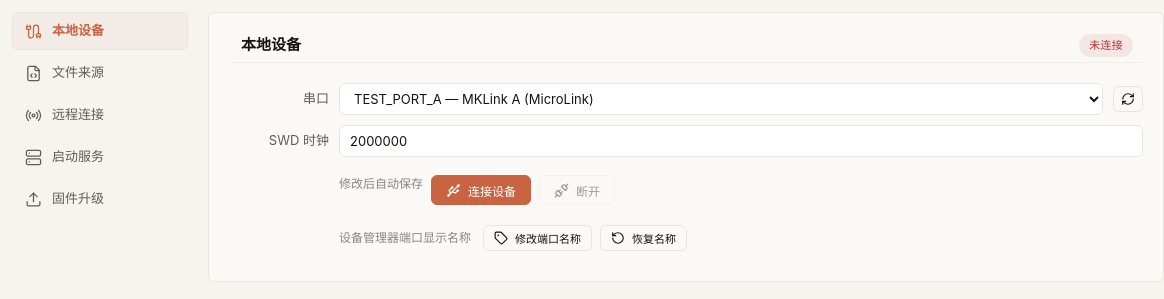
Scenario: ConfigView › shows the active symbol source when the edited path is not loaded
The width and height of the screenshot is (1164, 299).
Step 1. Click the button with test id "config-section-files" → click(100, 73), box x1=12 y1=54 x2=188 y2=92
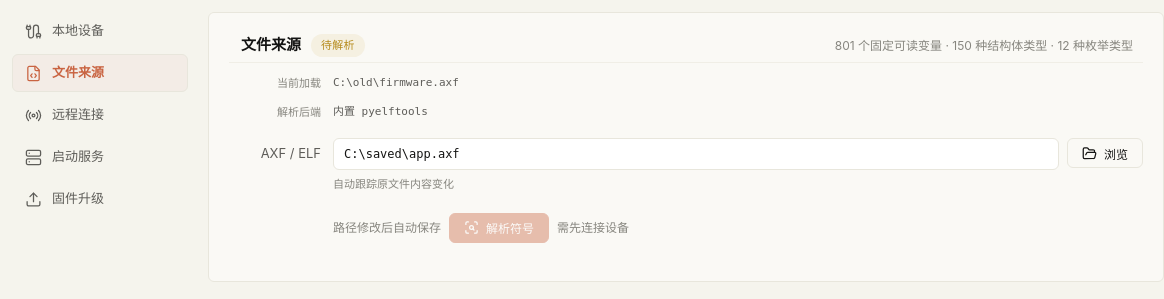
Result: the text with test id "symbol-source-state" reads "待解析" at x1=321 y1=38 x2=355 y2=52
Result: the element with test id "active-symbol-path" shows "C:\\old\\firmware.axf" at x1=333 y1=76 x2=459 y2=89
